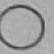no answer: (0, 3, 47, 52)
